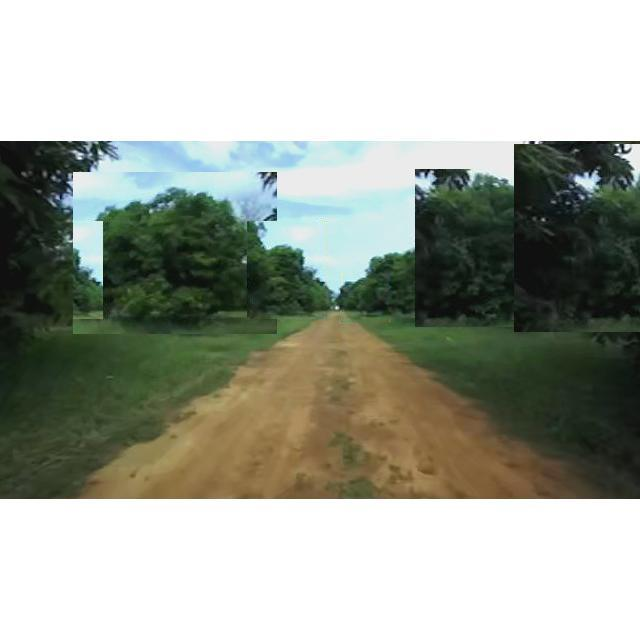direk: (73, 172, 277, 334), (0, 143, 126, 355), (415, 169, 575, 327), (514, 144, 640, 332), (364, 236, 488, 334), (247, 221, 327, 319), (342, 272, 390, 322)
